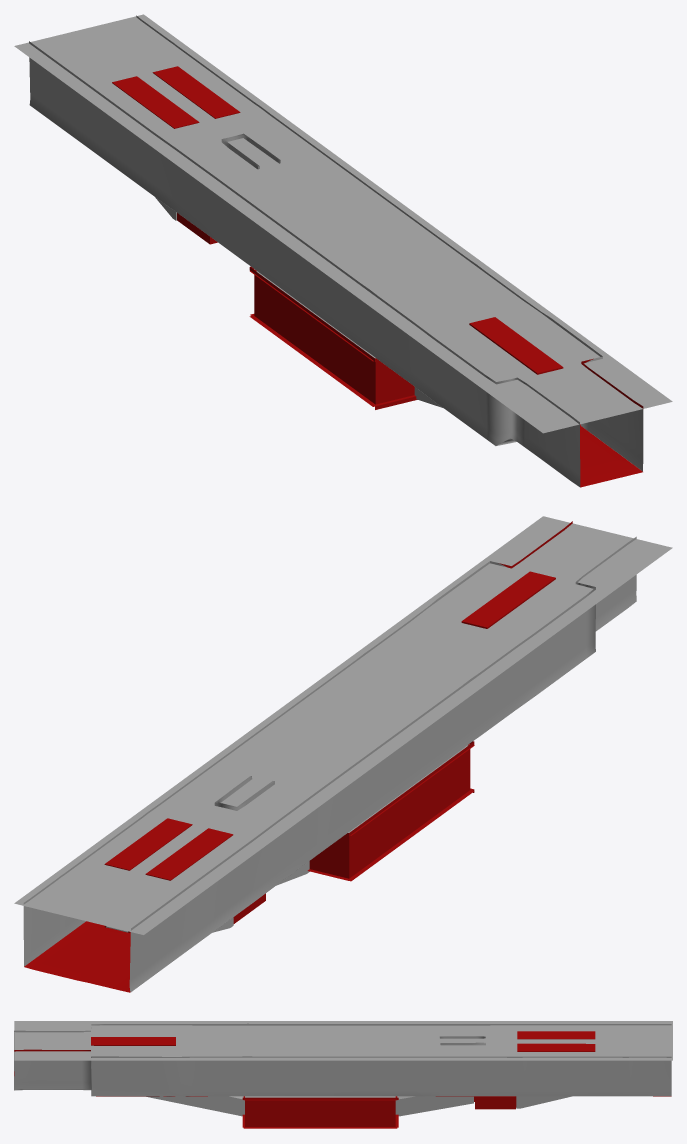
File: Accueil_5L_E_Ev_O+_OM_V.fbx
The picture shows the model from 3 angles, top to bottom: view 1: azimuth 30°, elevation 25°; view 2: azimuth 150°, elevation 25°; view 3: azimuth 270°, elevation 25°; orthographic projection. The views are drawn at different scales.
Visible parts, largest first — view 1: Mur_Sol1; view 2: Mur_Sol1; view 3: Mur_Sol1.
Boxes of the visible parts, x1,y1,x2,y2 form: Mur_Sol1: [14, 14, 672, 487]; Mur_Sol1: [14, 516, 672, 992]; Mur_Sol1: [14, 1021, 672, 1128].
Bounding box in the file's own units: 36.14 × 31.36 × 255.
